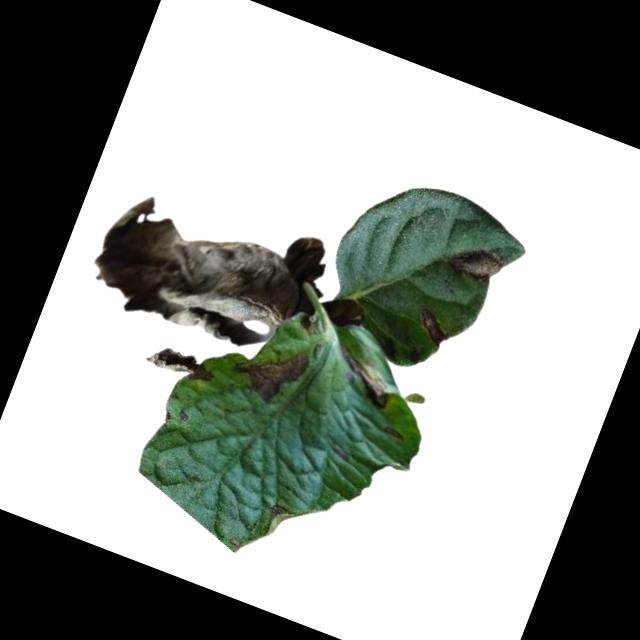Early_blight: (83, 167, 333, 365), (224, 329, 315, 411), (324, 340, 404, 412), (142, 339, 218, 391), (442, 232, 509, 287), (410, 304, 458, 352), (268, 502, 291, 525)
